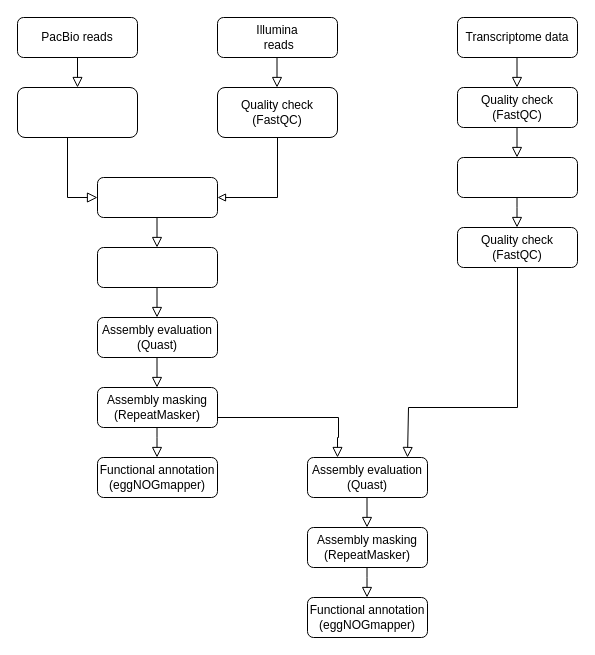
This 595x655 diagram has some shape labels left out. Here are the shapes that lost their labels. From the top down, the centre of each, then its label:
the point at 77,112: Quality check + Genome assembly (Canu)
the point at 157,197: Mapping (BWA)
the point at 517,177: Trimming (Trimmomatic)
the point at 157,267: Correct assembly (Pilon)
